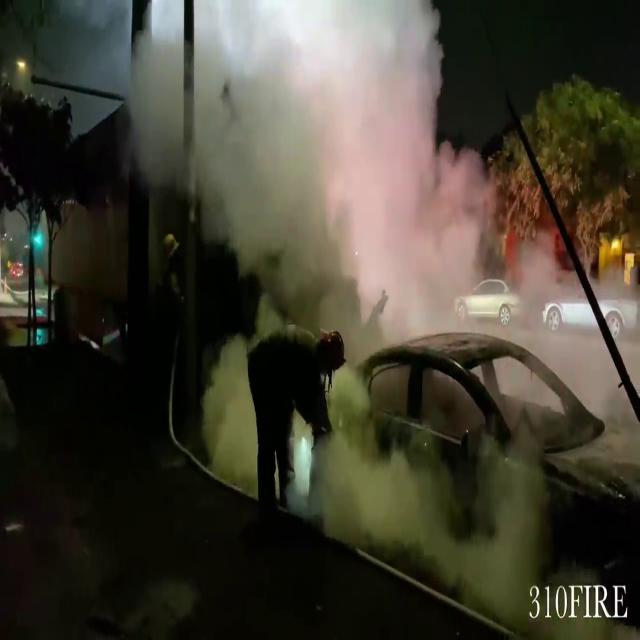Smoke: (172, 0, 494, 322)
